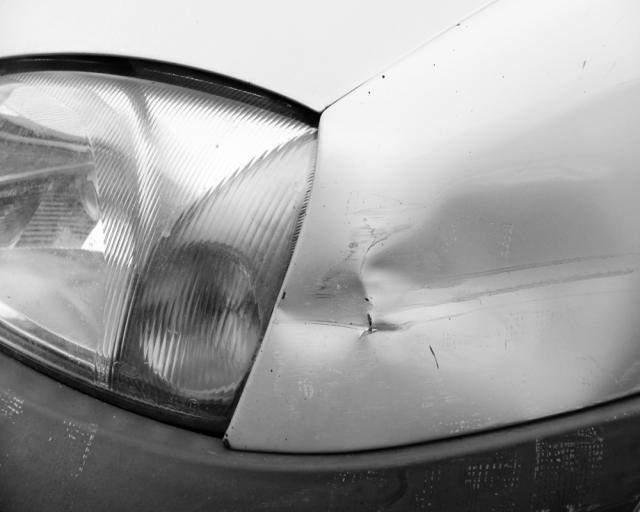dent: (272, 168, 640, 404)
